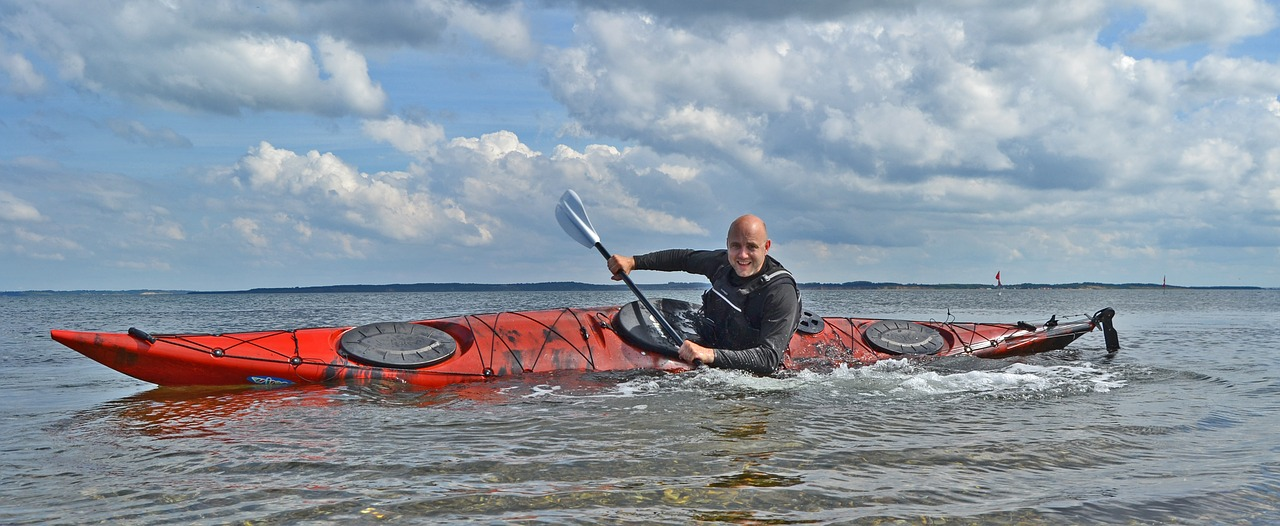kayak: (40, 297, 1121, 397)
